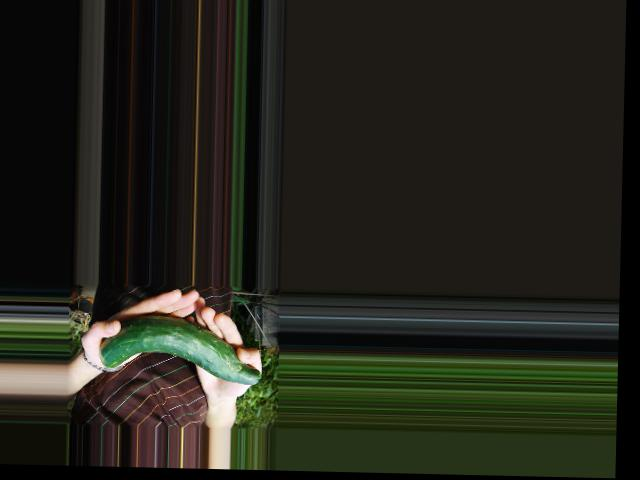cucumber: (98, 314, 261, 384)
